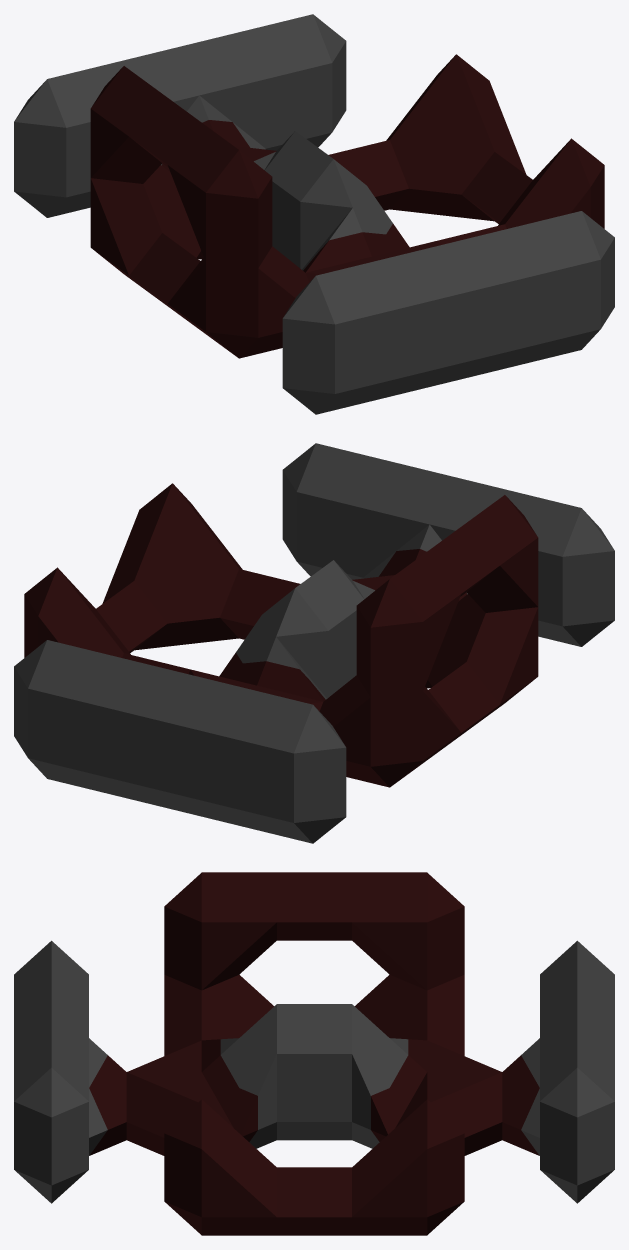
The model's file is red_ship.fbx.
3 views of the same model, one above another, from view 1: azimuth 30°, elevation 25°; view 2: azimuth 150°, elevation 25°; view 3: azimuth 270°, elevation 25° (orthographic). The views are drawn at different scales.
Visible parts, largest first — view 1: node; view 2: node; view 3: node.
Boxes of the visible parts, x1=… form: node: x1=14, y1=14, x2=614, y2=414; node: x1=14, y1=443, x2=614, y2=843; node: x1=14, y1=872, x2=614, y2=1235.
Bounding box in the file's own units: 60 × 30 × 80.
